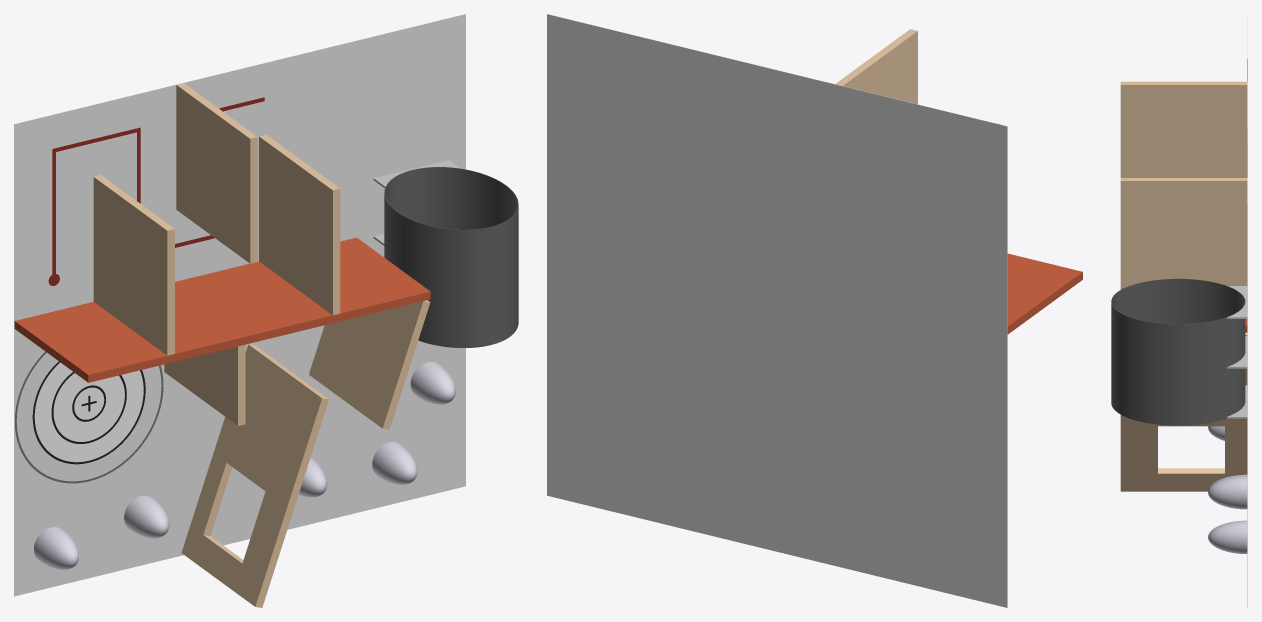
File: course_visual.obj
3 views of the same model, side by side, from view 1: azimuth 30°, elevation 25°; view 2: azimuth 150°, elevation 25°; view 3: azimuth 270°, elevation 25° (orthographic). The views are drawn at different scales.
Visible parts, largest first — view 1: Floor 20 x 20 ft, Tube oval 58 x 72 x 60, M2 maze divider, M1 maze divider, M3 maze divider, C2a chicane wall (window), C1 chicane wall, Barrier 2, Barrier 1, C2b chicane wall, Landing pad 5 ft, Barrier 3 (cut to 55 in) (+9 smaller); view 2: Floor 20 x 20 ft, Barrier 1, M2 maze divider; view 3: Tube oval 58 x 72 x 60, M3 maze divider, M2 maze divider, C2a chicane wall (window), Boulder 1, Boulder 2, Floor 20 x 20 ft, Tube cradle 3, Tube cradle 1, Tube cradle 2.
Boxes of the visible parts, x1,y1,x2,y2 form: Floor 20 x 20 ft: (14, 14, 465, 596); Tube oval 58 x 72 x 60: (384, 167, 518, 347); M2 maze divider: (176, 83, 257, 263); M1 maze divider: (93, 175, 174, 355); M3 maze divider: (259, 134, 340, 315); C2a chicane wall (window): (181, 426, 302, 607); C1 chicane wall: (309, 300, 430, 429); Barrier 2: (175, 263, 327, 353); Barrier 1: (14, 302, 207, 382); C2b chicane wall: (222, 344, 328, 480); Landing pad 5 ft: (32, 362, 143, 462); Barrier 3 (cut to 55 in): (254, 237, 430, 324); Floor 20 x 20 ft: (547, 14, 1007, 607); Barrier 1: (1007, 253, 1082, 334); M2 maze divider: (835, 29, 917, 104); Tube oval 58 x 72 x 60: (1111, 278, 1245, 425); M3 maze divider: (1120, 178, 1247, 288); M2 maze divider: (1120, 81, 1247, 177); C2a chicane wall (window): (1120, 418, 1247, 491); Boulder 1: (1208, 520, 1247, 553); Boulder 2: (1208, 476, 1247, 509); Floor 20 x 20 ft: (1247, 14, 1247, 607); Tube cradle 3: (1227, 286, 1247, 318); Tube cradle 1: (1227, 385, 1247, 418); Tube cradle 2: (1227, 335, 1247, 368).
Size of the model in its own units: 6.1 by 6.1 by 1.86.
